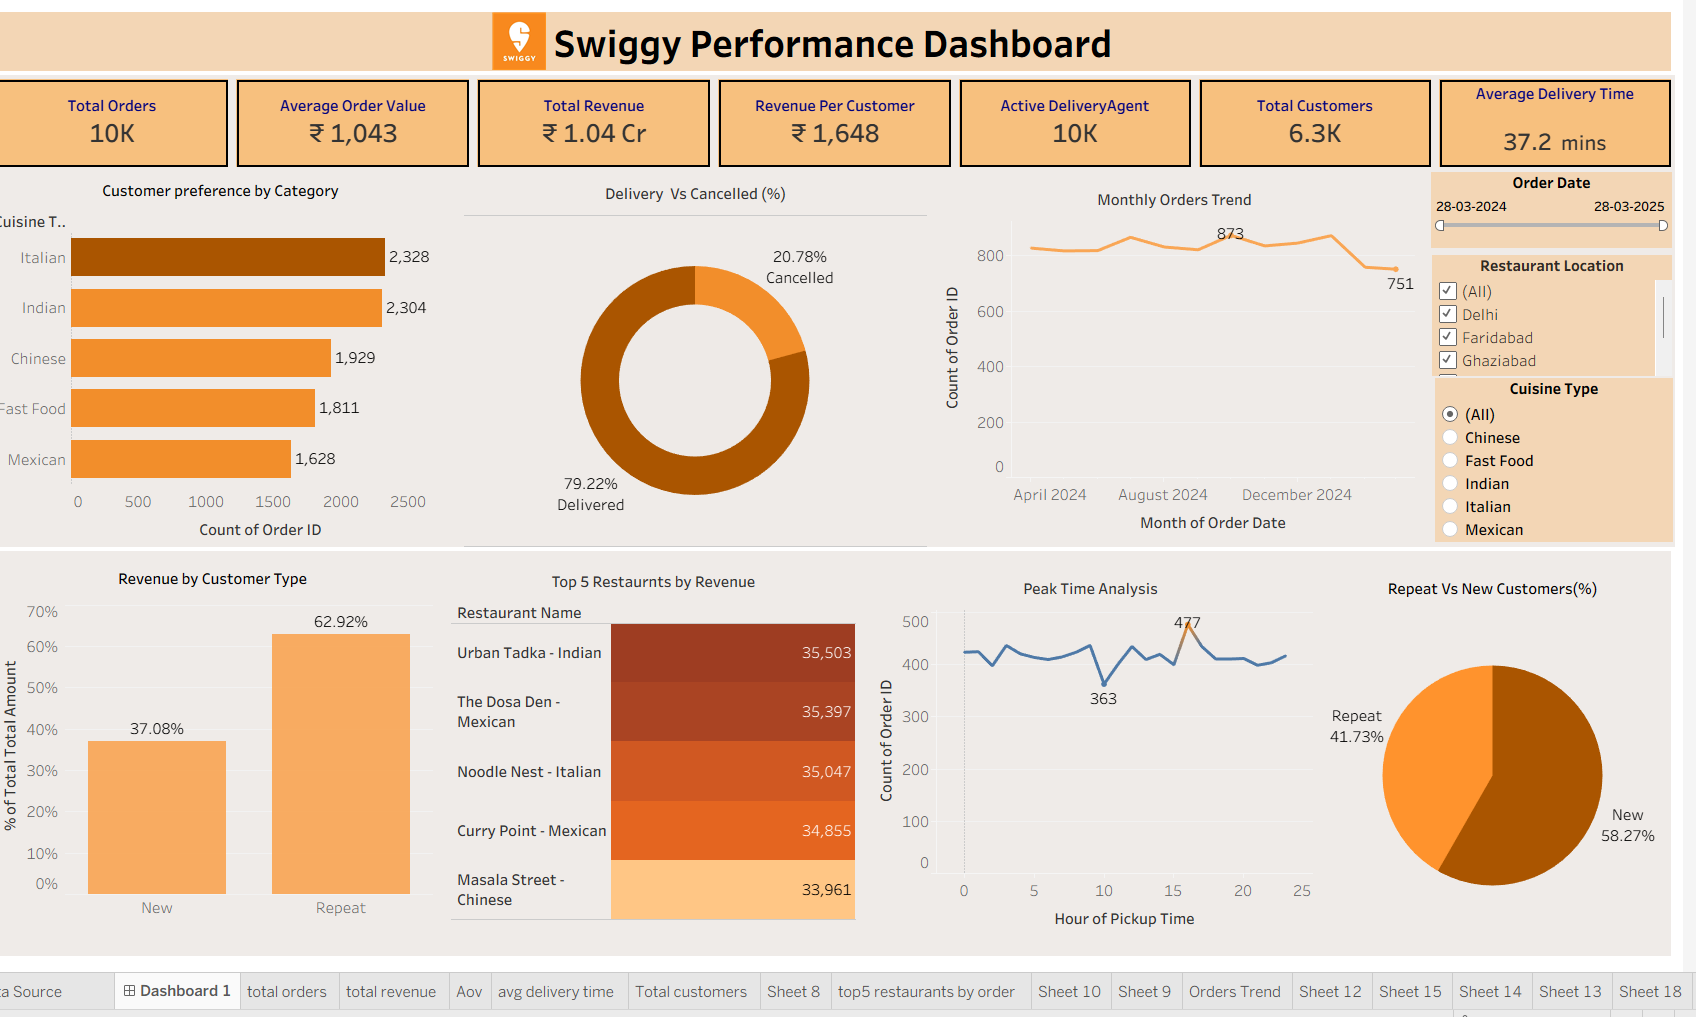

The dashboard page shown, as its layout file describes it:
{"tool":"tableau","page":{"name":"Dashboard 1","canvas":[1700,1000],"ordinal":0},"visuals":[{"type":"text","box":[8,8,1684,67]},{"type":"image","param":"Image/739704de9f9f307063de2e94e45d4f89.jpg","box":[462,12,149,58]},{"type":"worksheet","title":"total orders","mark":"Automatic","box":[8,75,241,96]},{"type":"worksheet","title":"Aov","mark":"Automatic","box":[249,75,241,96]},{"type":"worksheet","title":"total revenue","mark":"Automatic","box":[490,75,241,96]},{"type":"worksheet","title":"Sheet 23","mark":"Automatic","box":[731,75,241,96]},{"type":"worksheet","title":"Sheet 22","mark":"Automatic","box":[972,75,240,96]},{"type":"worksheet","title":"Total customers","mark":"Automatic","box":[1212,75,240,96]},{"type":"worksheet","title":"avg delivery time","mark":"Automatic","box":[1452,75,240,96]},{"type":"filter","title":"Sheet 29","param":"[federated.0lv3he51n8eo9x1h0u7wb1u7bjhg].[none:Order Date:qk]","box":[1448,172,241,76]},{"type":"worksheet","title":"Sheet 12","mark":"Automatic","rows":["Cuisine Type"],"cols":["Order ID"],"box":[8,176,459,371]},{"type":"worksheet","title":"Sheet 30","mark":"Pie","cols":["Calculation_0918982539808769","Calculation_0918982539808769"],"box":[481,179,463,368]},{"type":"worksheet","title":"Orders Trend","mark":"Line","rows":["Order ID"],"cols":["Order Date"],"box":[951,185,481,355]},{"type":"filter","title":"Sheet 26","param":"[federated.0lv3he51n8eo9x1h0u7wb1u7bjhg].[none:RestaurantLocation:nk]","box":[1449,255,240,121]},{"type":"filter","title":"Sheet 12","param":"[federated.0lv3he51n8eo9x1h0u7wb1u7bjhg].[none:Cuisine Type:nk]","box":[1452,378,238,164]},{"type":"worksheet","title":"Sheet 29","mark":"Automatic","box":[8,547,1684,413]},{"type":"worksheet","title":"Sheet 17","mark":"Automatic","rows":["Total Amount"],"cols":["Calculation_1527561766993926"],"box":[9,564,441,355]},{"type":"worksheet","title":"Sheet 26","mark":"Square","rows":["RestaurantName"],"box":[468,567,405,353]},{"type":"worksheet","title":"Peak hour","mark":"Automatic","rows":["Order ID"],"cols":["Pickup Time"],"box":[885,574,445,362]},{"type":"worksheet","title":"Sheet 16","mark":"Pie","box":[1337,574,345,367]}]}

Visuals, with their boxes on the page's 1700x1000 design canvas (x1, y1, x2, y2). These are canvas units, not pixel positions in the 1696x1017 screenshot, which may show the page scaled, cropped or inside an application window:
text: BBox(8, 8, 1692, 75)
image: BBox(462, 12, 611, 70)
"total orders" worksheet: BBox(8, 75, 249, 171)
"Aov" worksheet: BBox(249, 75, 490, 171)
"total revenue" worksheet: BBox(490, 75, 731, 171)
"Sheet 23" worksheet: BBox(731, 75, 972, 171)
"Sheet 22" worksheet: BBox(972, 75, 1212, 171)
"Total customers" worksheet: BBox(1212, 75, 1452, 171)
"avg delivery time" worksheet: BBox(1452, 75, 1692, 171)
"Sheet 29" filter: BBox(1448, 172, 1689, 248)
"Sheet 12" worksheet: BBox(8, 176, 467, 547)
"Sheet 30" worksheet (Pie marks): BBox(481, 179, 944, 547)
"Orders Trend" worksheet (Line marks): BBox(951, 185, 1432, 540)
"Sheet 26" filter: BBox(1449, 255, 1689, 376)
"Sheet 12" filter: BBox(1452, 378, 1690, 542)
"Sheet 29" worksheet: BBox(8, 547, 1692, 960)
"Sheet 17" worksheet: BBox(9, 564, 450, 919)
"Sheet 26" worksheet (Square marks): BBox(468, 567, 873, 920)
"Peak hour" worksheet: BBox(885, 574, 1330, 936)
"Sheet 16" worksheet (Pie marks): BBox(1337, 574, 1682, 941)
